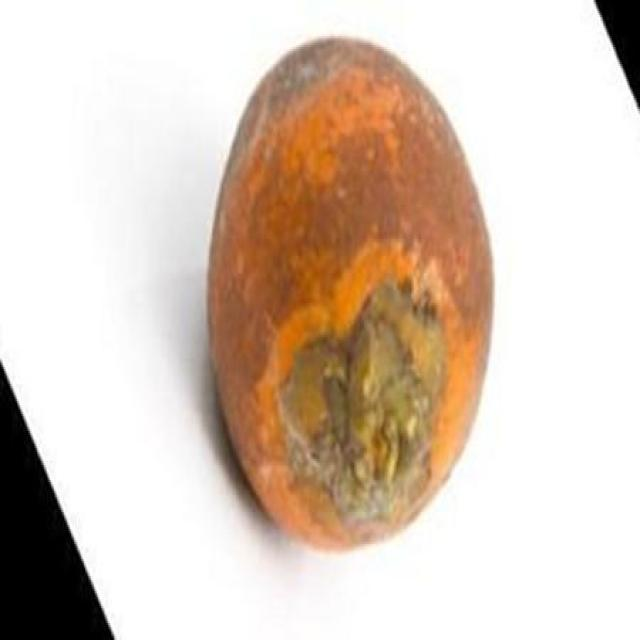good: (206, 36, 496, 557)
